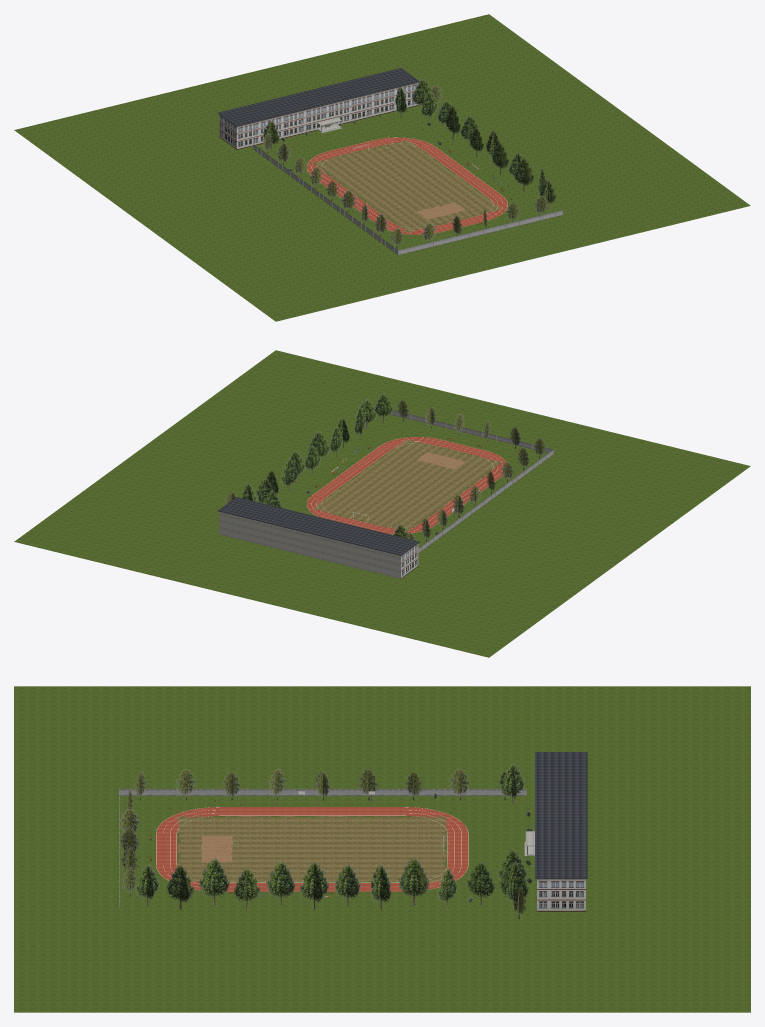
File: school.glb
The picture shows the model from 3 angles, top to bottom: view 1: azimuth 30°, elevation 25°; view 2: azimuth 150°, elevation 25°; view 3: azimuth 270°, elevation 25°; orthographic projection. The views are drawn at different scales.
Parts seen in each view (by area): view 1: ground, court, school-front, school-roof, court-track, fence1, fence0; view 2: ground, court, school-body, school-roof, court-track, fence0, fence1; view 3: ground, court, school-roof, court-track, fence0, school-right, clay-dom, tree10-0, tree5-1, tree2-0, tree3-1, tree11-0 (+2 smaller).
Boxes of the visible parts, bbox=[...] form: ground: bbox=[14, 14, 750, 321]; court: bbox=[312, 140, 501, 232]; school-front: bbox=[237, 82, 418, 149]; school-roof: bbox=[218, 68, 419, 126]; court-track: bbox=[307, 137, 507, 234]; fence1: bbox=[398, 210, 562, 254]; fence0: bbox=[253, 145, 397, 254]; ground: bbox=[14, 350, 750, 657]; court: bbox=[313, 439, 502, 531]; school-body: bbox=[219, 511, 400, 578]; school-roof: bbox=[218, 497, 419, 555]; court-track: bbox=[307, 437, 506, 534]; fence0: bbox=[418, 450, 553, 553]; fence1: bbox=[390, 410, 553, 452]; ground: bbox=[14, 686, 750, 1012]; court: bbox=[177, 816, 446, 882]; school-roof: bbox=[535, 752, 587, 878]; court-track: bbox=[156, 807, 468, 891]; fence0: bbox=[119, 789, 525, 795]; school-right: bbox=[537, 879, 585, 911]; clay-dom: bbox=[201, 835, 232, 862]; tree10-0: bbox=[466, 861, 494, 905]; tree5-1: bbox=[298, 862, 329, 909]; tree2-0: bbox=[198, 858, 229, 905]; tree3-1: bbox=[233, 868, 260, 909]; tree11-0: bbox=[499, 862, 528, 909].
Size of the model in its own units: 220 by 15.41 by 210.
23 materials, 16 textured.
